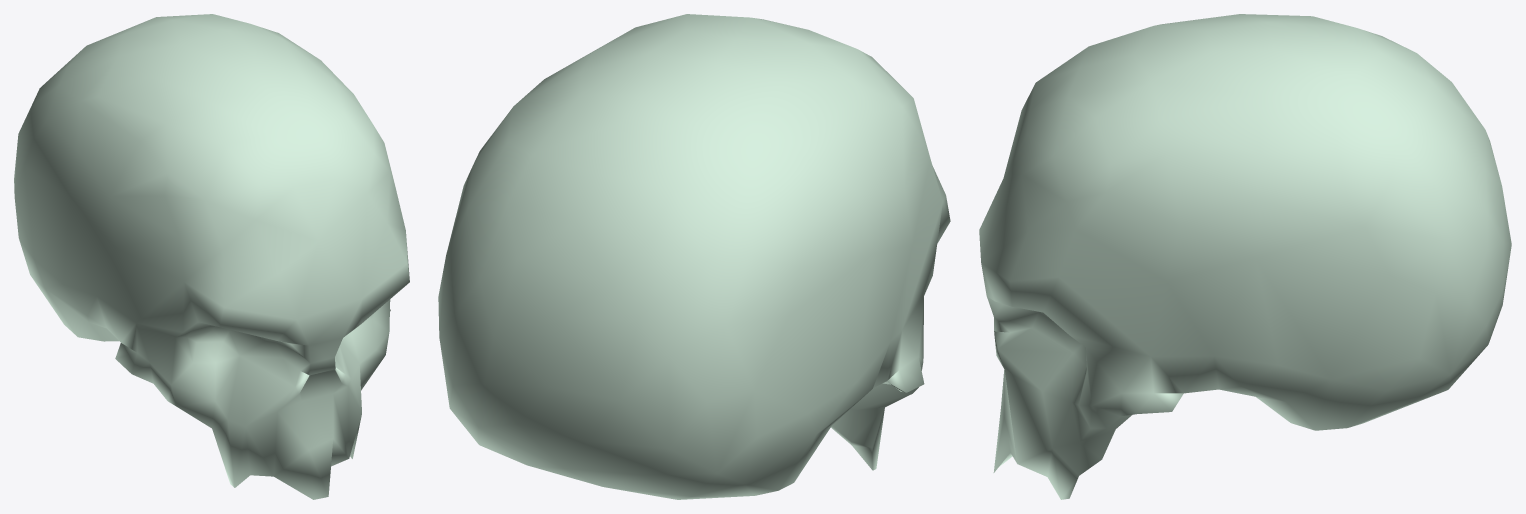
The model's file is CurseSkullGhost.fbx.
3 views of the same model, side by side, from view 1: azimuth 30°, elevation 25°; view 2: azimuth 150°, elevation 25°; view 3: azimuth 270°, elevation 25° (orthographic). The views are drawn at different scales.
Parts seen in each view (by area): view 1: curseSkull; view 2: curseSkull; view 3: curseSkull.
Boxes of the visible parts, x1,y1,x2,y2 form: curseSkull: (14,14,409,499); curseSkull: (438,14,950,499); curseSkull: (979,14,1511,499).
Bounding box in the file's own units: 39.32 × 50.21 × 55.59.
